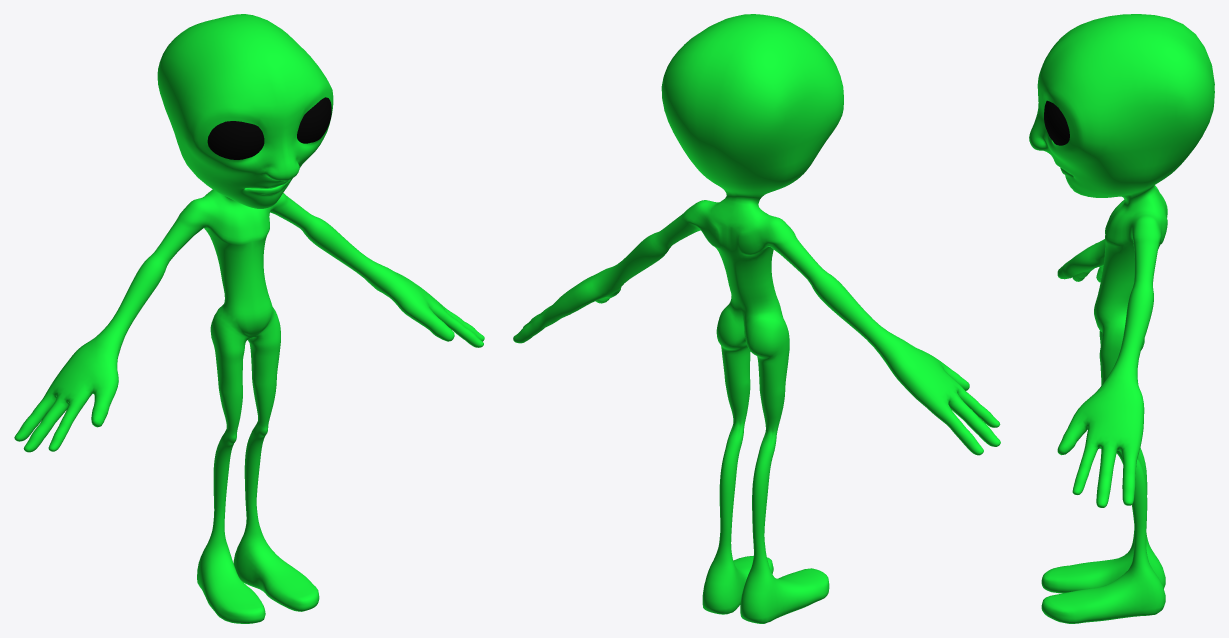
The model's file is Argise_The_Green_Alien.obj.
3 renders of one model, left to right at view 1: azimuth 30°, elevation 25°; view 2: azimuth 150°, elevation 25°; view 3: azimuth 270°, elevation 25°, orthographic. The views are drawn at different scales.
Parts seen in each view (by area): view 1: Argise; view 2: Argise; view 3: Argise.
Boxes of the visible parts, x1,y1,x2,y2 form: Argise: (14,14,484,623); Argise: (513,14,1000,623); Argise: (1029,14,1214,623).
Size of the model in its own units: 7.58 by 8.87 by 2.58.
